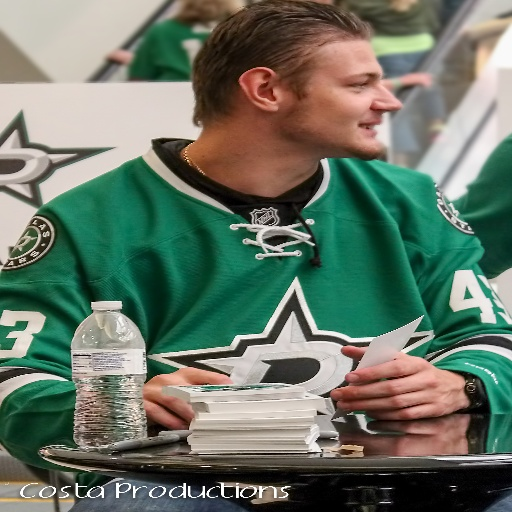hand: (330, 340, 462, 430), (126, 364, 235, 437), (399, 72, 433, 87), (104, 47, 132, 65)
